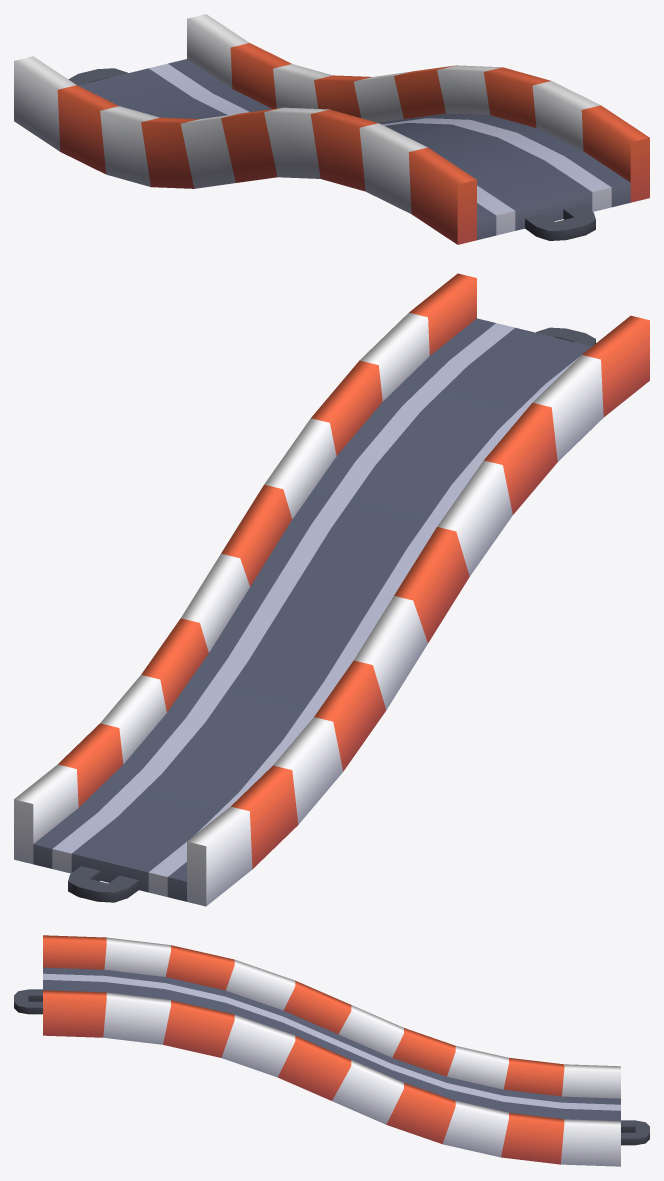
Rendered from kenney-toy-car-track-road-narrow-straight-hill-complete.glb.
The picture shows the model from 3 angles, top to bottom: view 1: azimuth 30°, elevation 25°; view 2: azimuth 150°, elevation 25°; view 3: azimuth 270°, elevation 25°; orthographic projection. The views are drawn at different scales.
Visible parts, largest first — view 1: track-road-narrow-straight-hill-complete; view 2: track-road-narrow-straight-hill-complete; view 3: track-road-narrow-straight-hill-complete.
Boxes of the visible parts, bbox=[...] form: track-road-narrow-straight-hill-complete: bbox=[14, 14, 649, 244]; track-road-narrow-straight-hill-complete: bbox=[14, 273, 649, 906]; track-road-narrow-straight-hill-complete: bbox=[14, 935, 649, 1166].
Size of the model in its own units: 1 by 1.3 by 4.4.
1 material, 1 textured.
